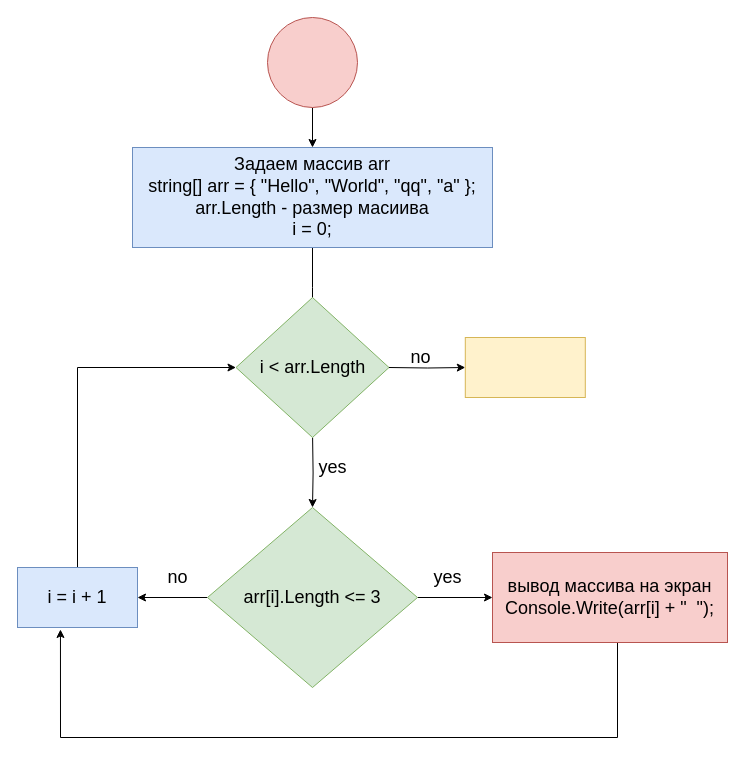
This 745x763 diagram has some shape labels left out. The centre of each missing label's shape, as x and y in pixels:
"THE END" goes at point 524,367.
"Начало" goes at point 312,62.
